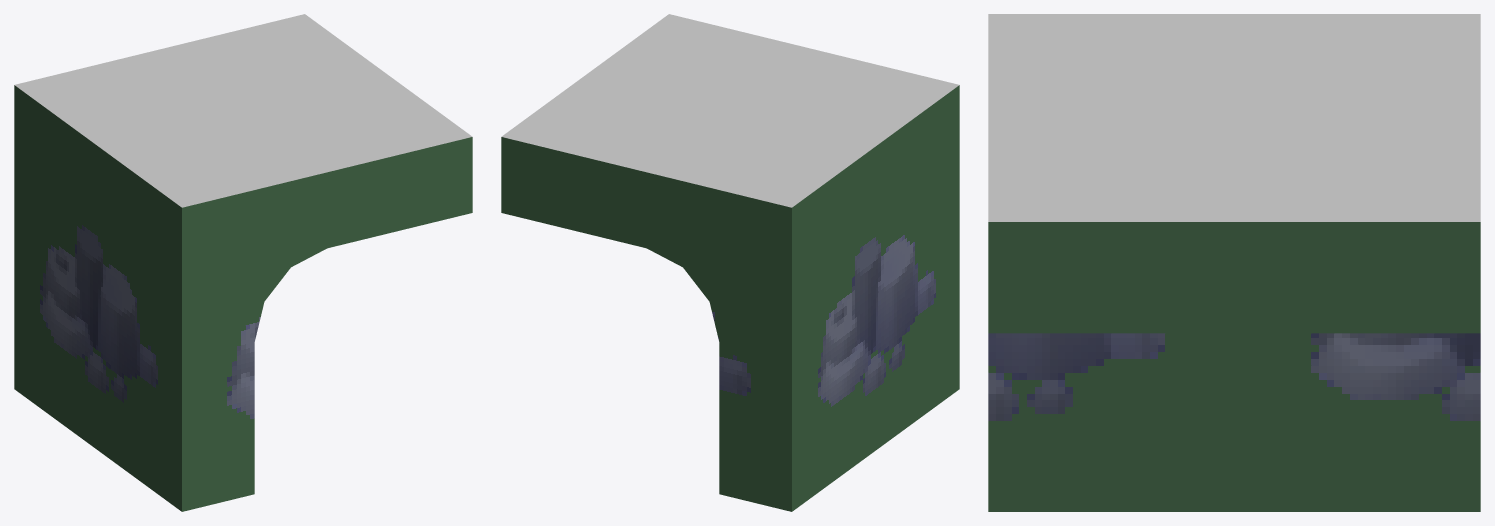
File: wall_gateHalf.dae
The picture shows the model from 3 angles, left to right: view 1: azimuth 30°, elevation 25°; view 2: azimuth 150°, elevation 25°; view 3: azimuth 270°, elevation 25°; orthographic projection. The views are drawn at different scales.
Visible parts, largest first — view 1: wall_gateHalf; view 2: wall_gateHalf; view 3: wall_gateHalf.
Boxes of the visible parts, x1,y1,x2,y2 form: wall_gateHalf: (14, 14, 472, 511); wall_gateHalf: (501, 14, 959, 511); wall_gateHalf: (988, 14, 1480, 511).
Size of the model in its own units: 1 by 1 by 1.
